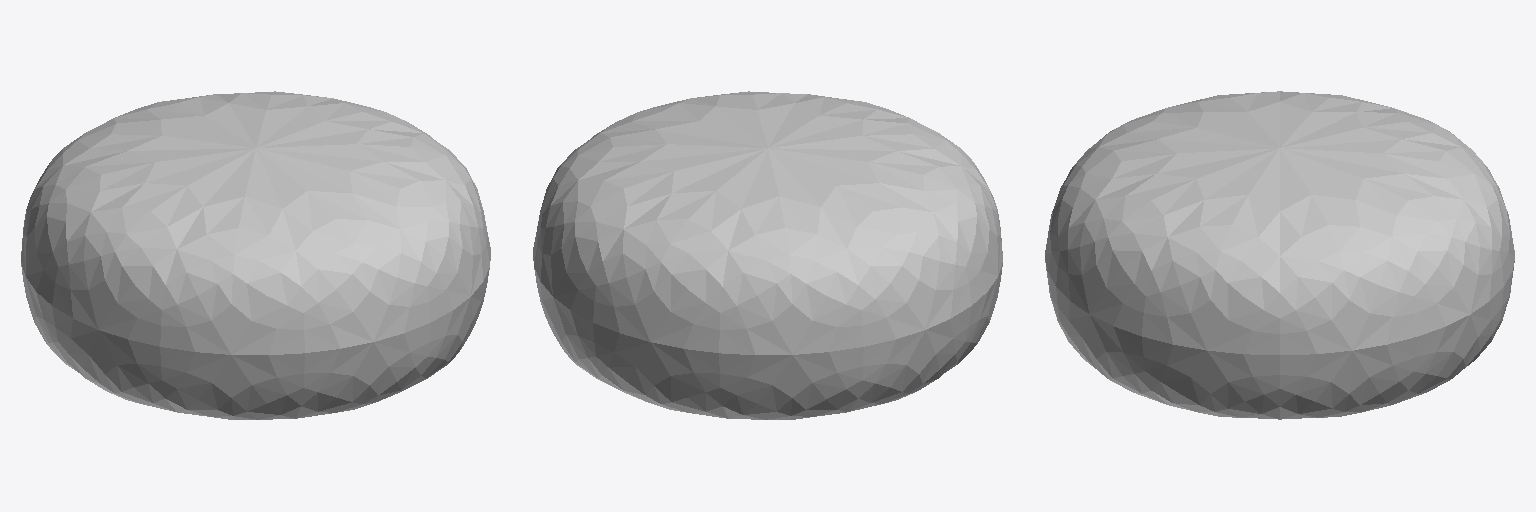
The model's file is burger.obj.
3 views of the same model, side by side, from view 1: azimuth 30°, elevation 25°; view 2: azimuth 150°, elevation 25°; view 3: azimuth 270°, elevation 25° (orthographic).
Visible parts, largest first — view 1: Top; view 2: Top; view 3: Top.
Part boxes in pixels (bbox=[...]): Top: bbox=[21, 91, 490, 419]; Top: bbox=[533, 91, 1002, 419]; Top: bbox=[1045, 91, 1514, 419].
Bounding box in the file's own units: 5.72 × 2.89 × 5.73.